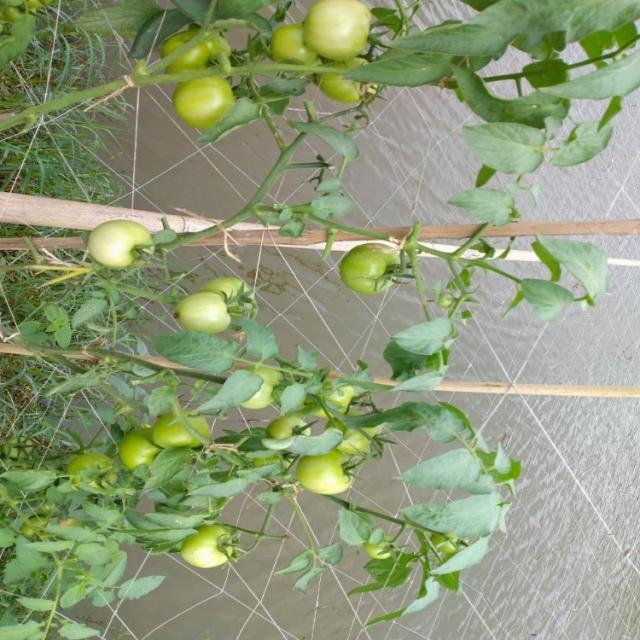tomato: (90, 205, 155, 281), (175, 517, 246, 583), (167, 77, 245, 137), (298, 452, 368, 515), (305, 1, 372, 65), (337, 242, 406, 301), (167, 26, 237, 81), (172, 289, 236, 345), (156, 398, 208, 458), (63, 444, 116, 497), (317, 68, 378, 113), (262, 21, 315, 72), (209, 271, 258, 324), (264, 415, 316, 459), (119, 421, 153, 482)
